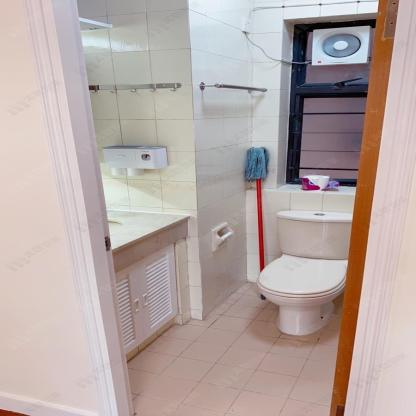Exhaust Fan: (311, 26, 371, 65)
Toilet: (257, 210, 354, 337)
